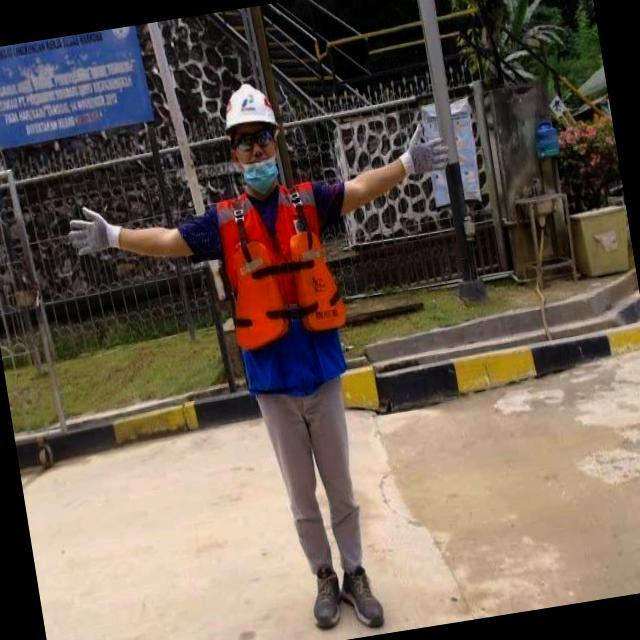vest: (216, 178, 358, 396)
